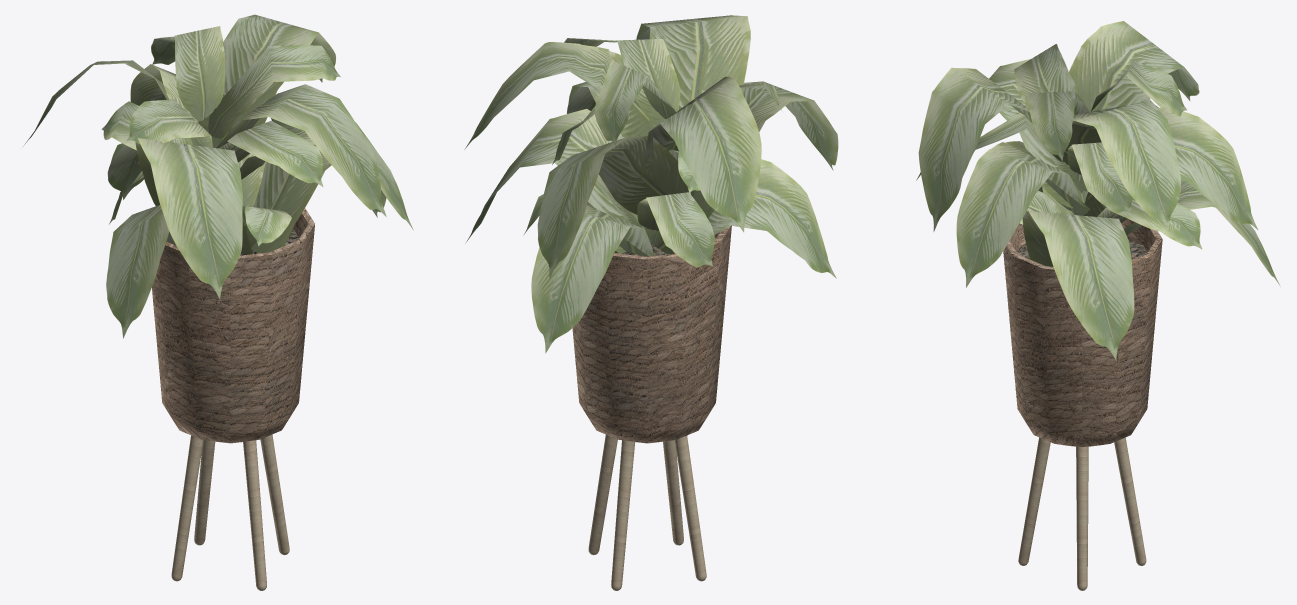
File: HighPlant.glb
3 views of the same model, side by side, from view 1: azimuth 30°, elevation 25°; view 2: azimuth 150°, elevation 25°; view 3: azimuth 270°, elevation 25° (orthographic). The views are drawn at different scales.
Parts seen in each view (by area): view 1: HighPlant; view 2: HighPlant; view 3: HighPlant.
Part boxes in pixels (bbox=[...]): HighPlant: bbox=[23, 14, 413, 590]; HighPlant: bbox=[464, 15, 838, 590]; HighPlant: bbox=[916, 21, 1280, 590].
Size of what is drawn, in the model's own units: 0.5497 by 0.764 by 0.5394.
4 materials, 4 textured.
